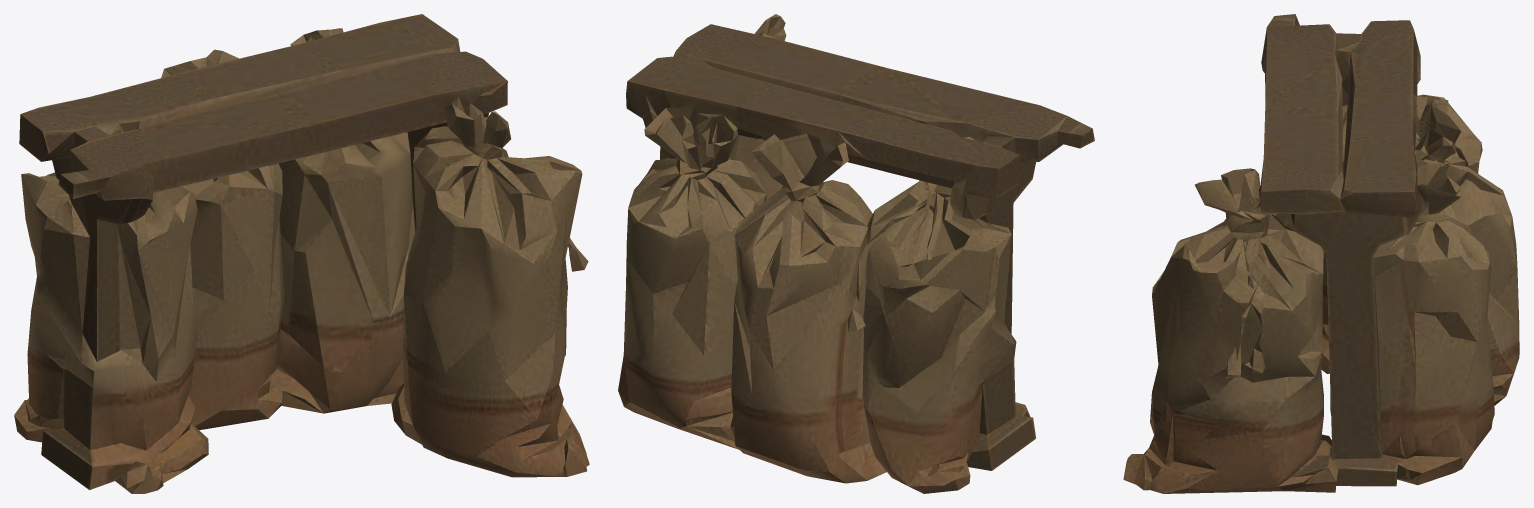
The model's file is sacks.glb.
3 renders of one model, left to right at view 1: azimuth 30°, elevation 25°; view 2: azimuth 150°, elevation 25°; view 3: azimuth 270°, elevation 25°, orthographic. The views are drawn at different scales.
Parts seen in each view (by area): view 1: sacks; view 2: sacks; view 3: sacks.
Boxes of the visible parts, x1,y1,x2,y2 form: sacks: [14, 14, 589, 493]; sacks: [618, 14, 1094, 493]; sacks: [1123, 14, 1519, 493].
Size of the model in its own units: 1.05 by 0.7 by 0.85.
1 material, 1 textured.
